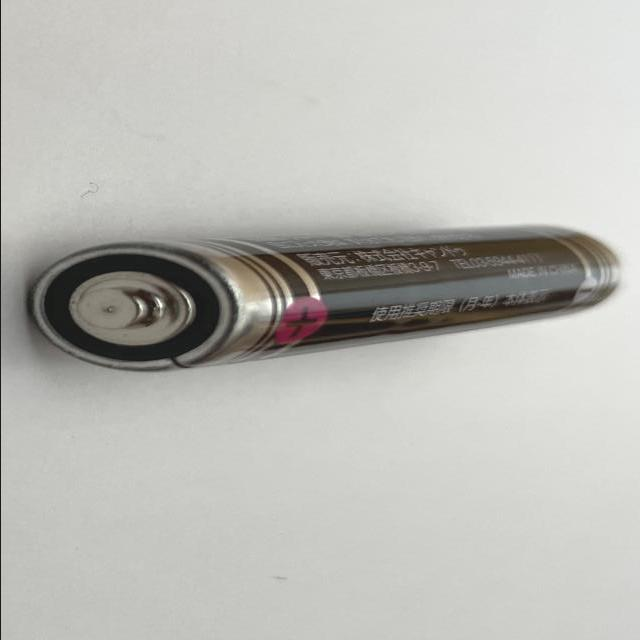AAA: (26, 225, 622, 378)
